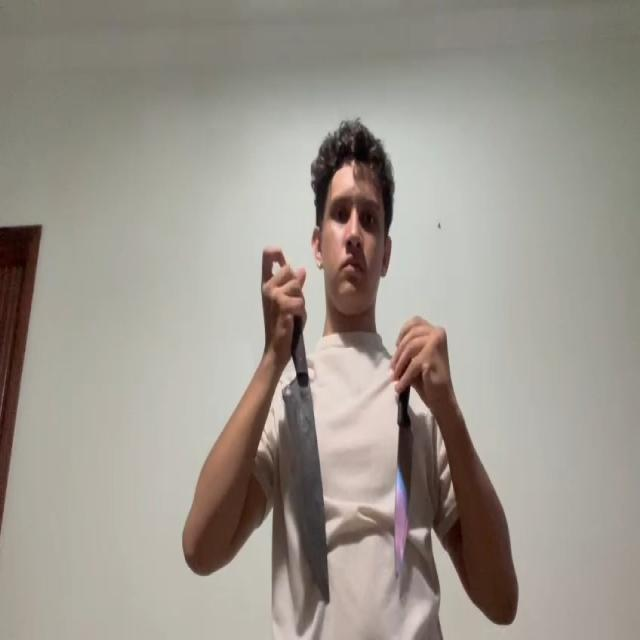knife: (284, 373, 332, 607), (392, 418, 414, 577)
